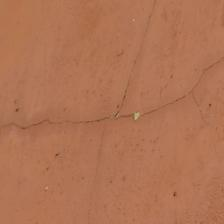Crack: (0, 177, 103, 224), (50, 78, 109, 145)
